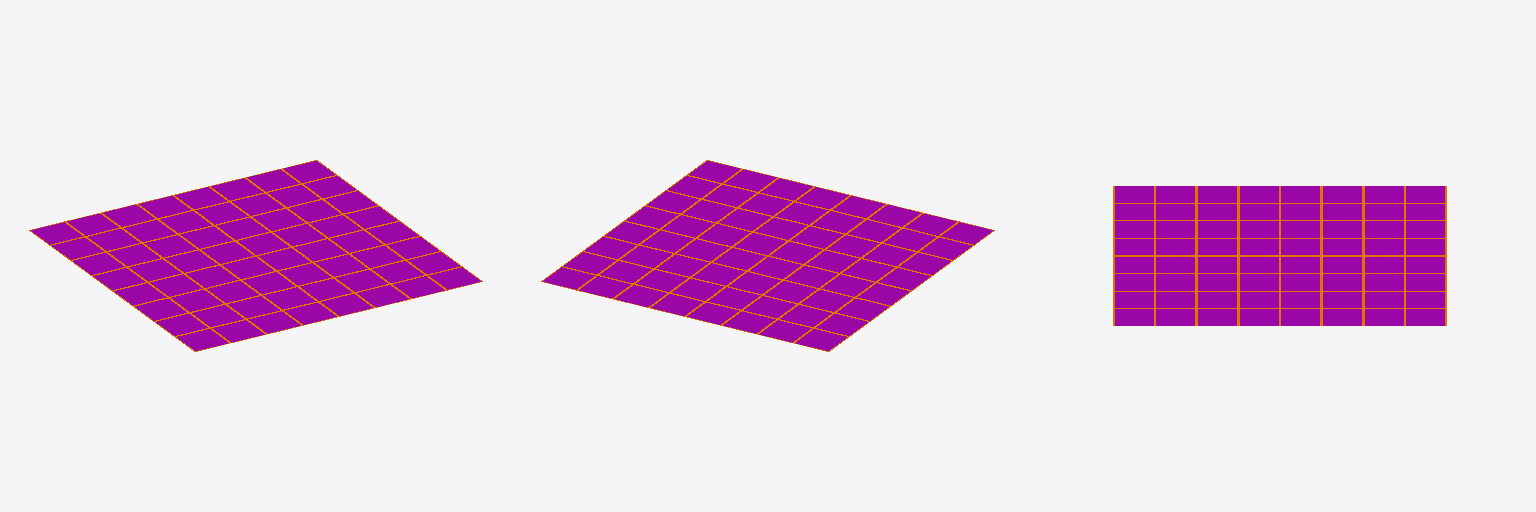
The picture shows the model from 3 angles: view 1: azimuth 30°, elevation 25°; view 2: azimuth 150°, elevation 25°; view 3: azimuth 270°, elevation 25°; orthographic projection.
Visible parts, largest first — view 1: Cube; view 2: Cube; view 3: Cube.
Boxes of the visible parts, box(x1,y1,x2,y2) form: Cube: box(29, 160, 482, 351); Cube: box(541, 160, 994, 351); Cube: box(1113, 186, 1446, 325).
Size of the model in its own units: 8 by 0 by 8.
Materials: 1 (1 with a texture image).